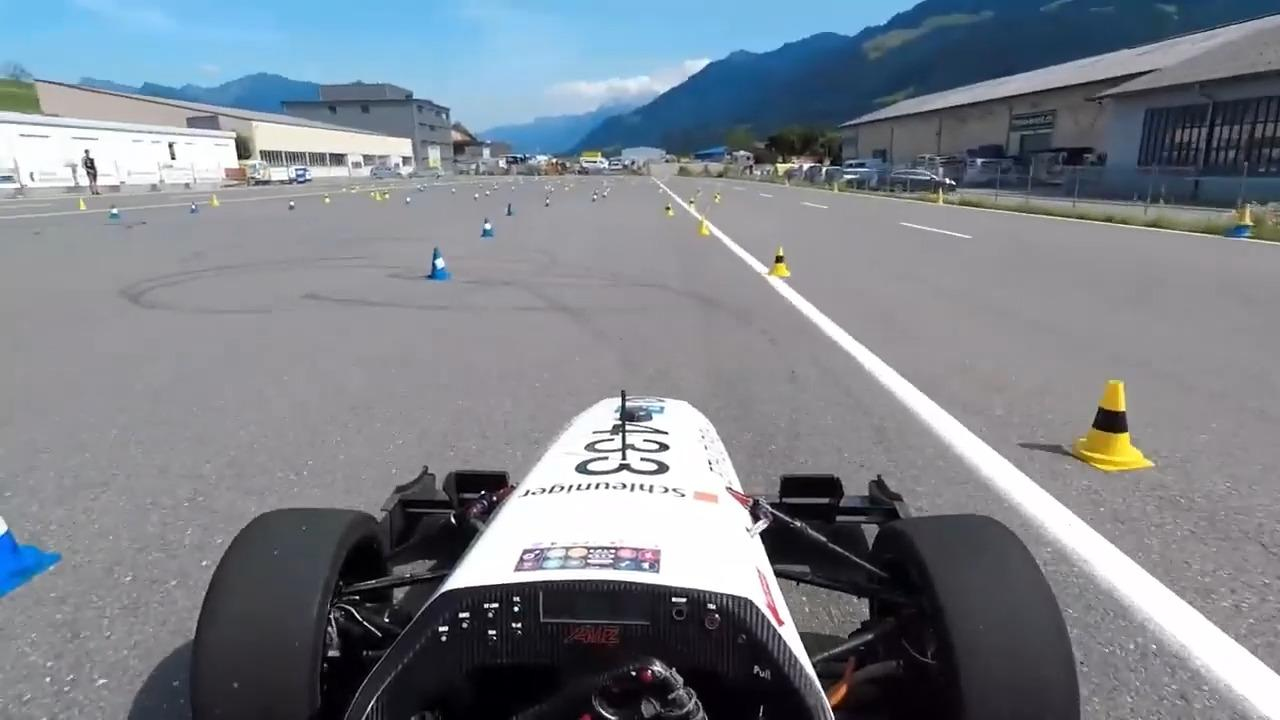blue_cone: (427, 248, 452, 280), (479, 214, 498, 238)
yellow_cone: (1062, 379, 1157, 472), (769, 246, 793, 277)
